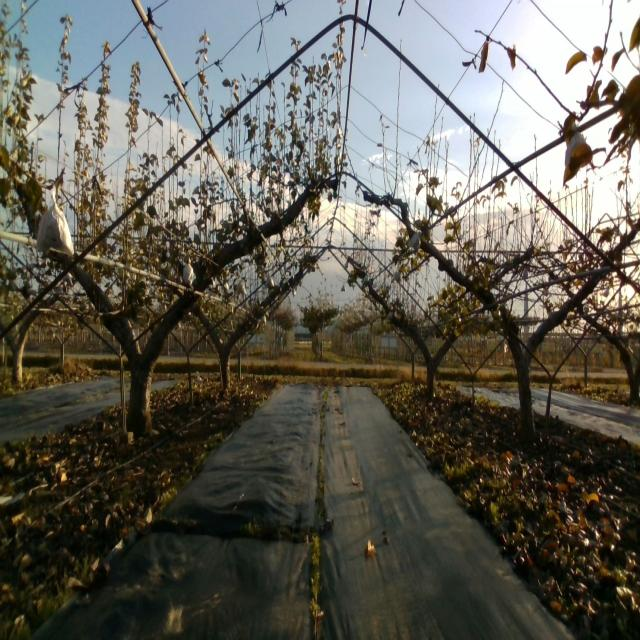pearbags: (36, 190, 74, 253), (565, 115, 588, 170), (183, 258, 197, 286), (407, 230, 421, 252), (236, 280, 247, 301)
